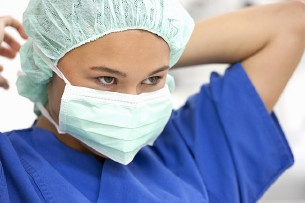Mask: (67, 55, 177, 165)
